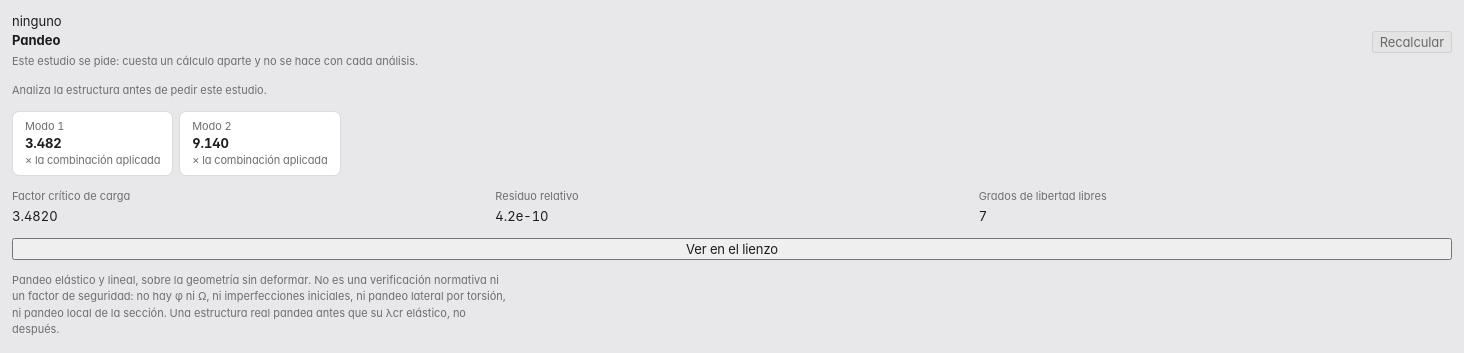
Scenario: vista de estabilidad · el modo en el lienzo › publica el modo elegido, con su etiqueta ya traducida
Click the button "Ver en el lienzo": (732, 249) [12,238,1452,260]
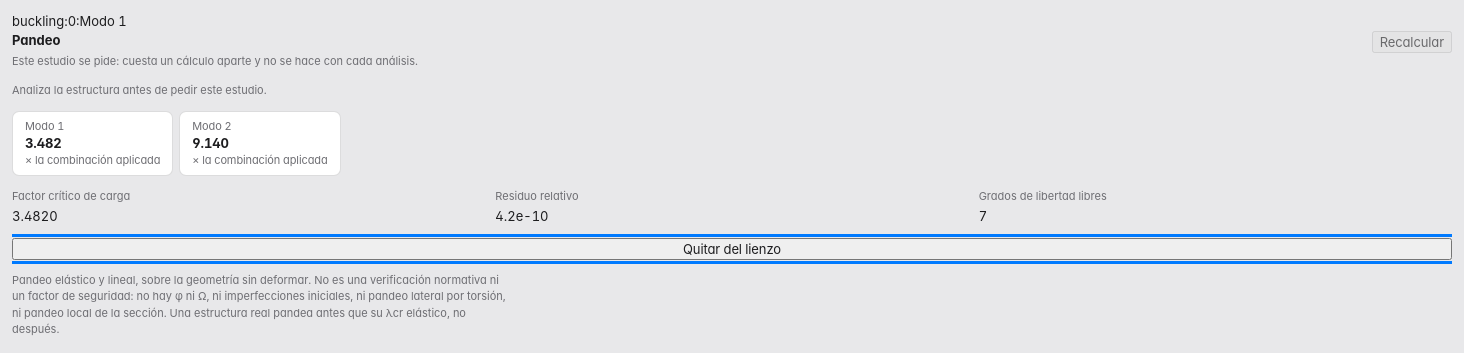
Now the text named "Modo en el lienzo" reads "buckling:0:Modo 1", box [12,13,127,29]
